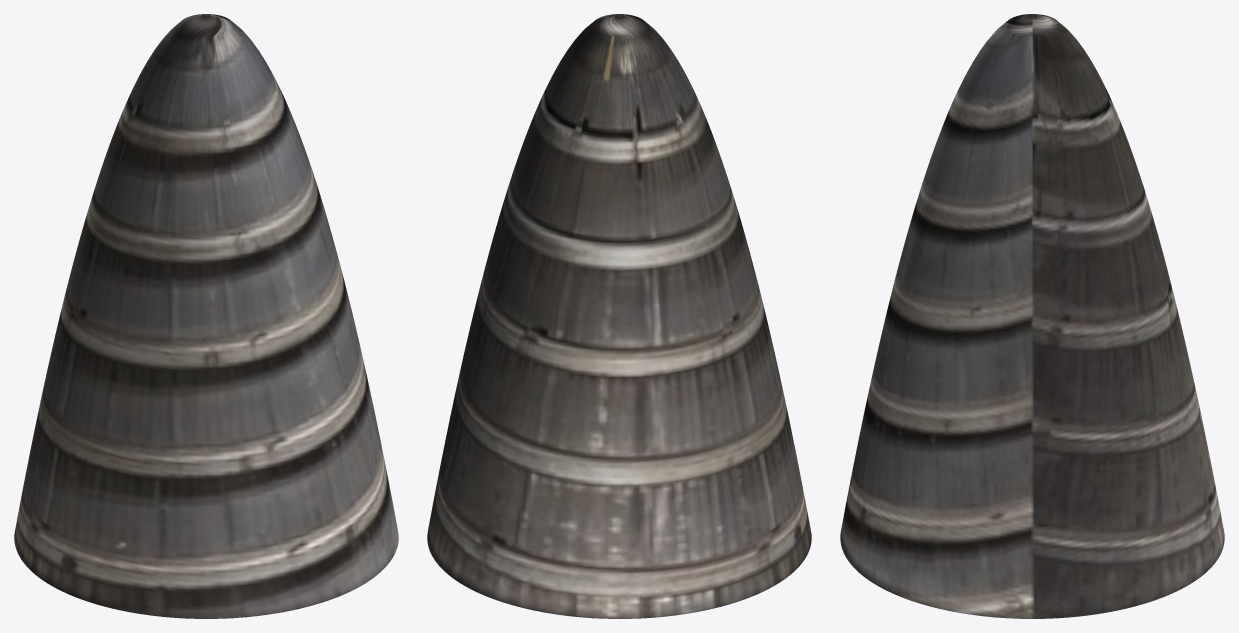
Rendered from mainExh.obj.
3 renders of one model, left to right at view 1: azimuth 30°, elevation 25°; view 2: azimuth 150°, elevation 25°; view 3: azimuth 270°, elevation 25°, orthographic.
Bounding box in the file's own units: 2 × 3 × 2.
1 material, 1 textured.
